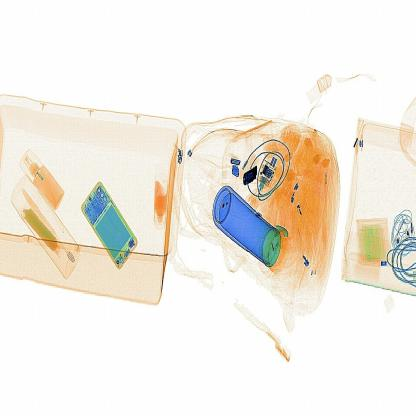knife: (240, 165, 263, 188)
